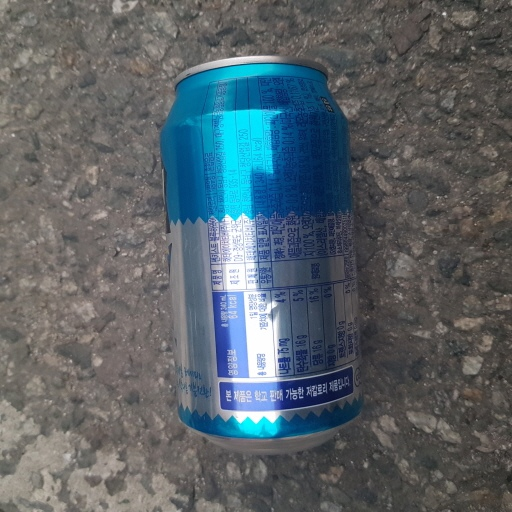Metal_0: (158, 54, 363, 457)
